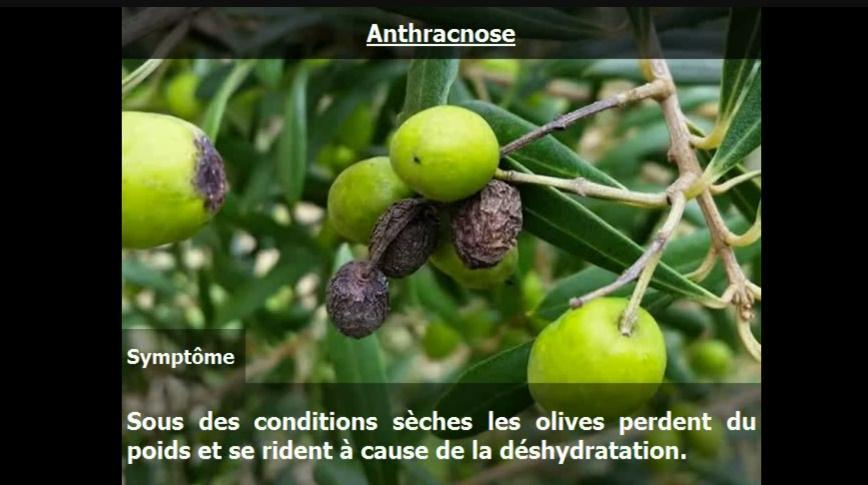Anthracnose: (454, 177, 524, 271), (324, 258, 391, 342), (368, 199, 436, 281), (186, 128, 231, 220)
